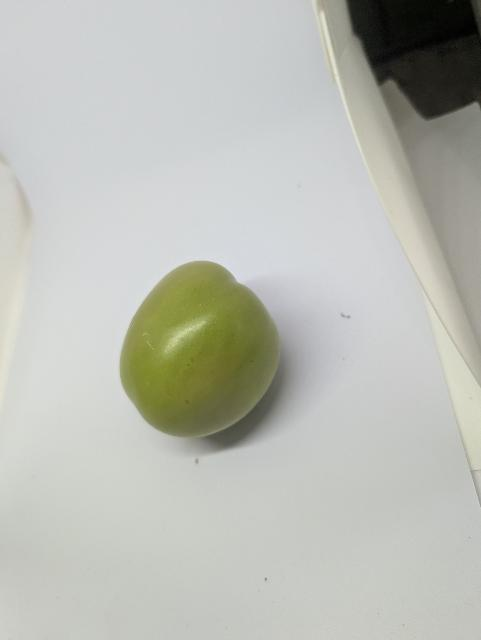green: (100, 255, 303, 455)
